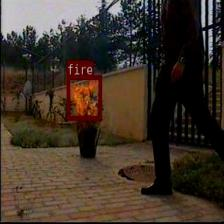fire: (67, 74, 101, 120)
